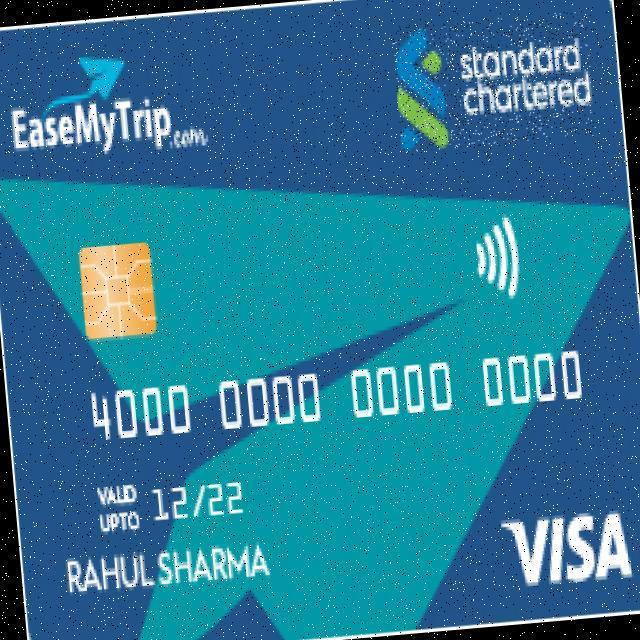Standard Chartered: (391, 10, 596, 153)
